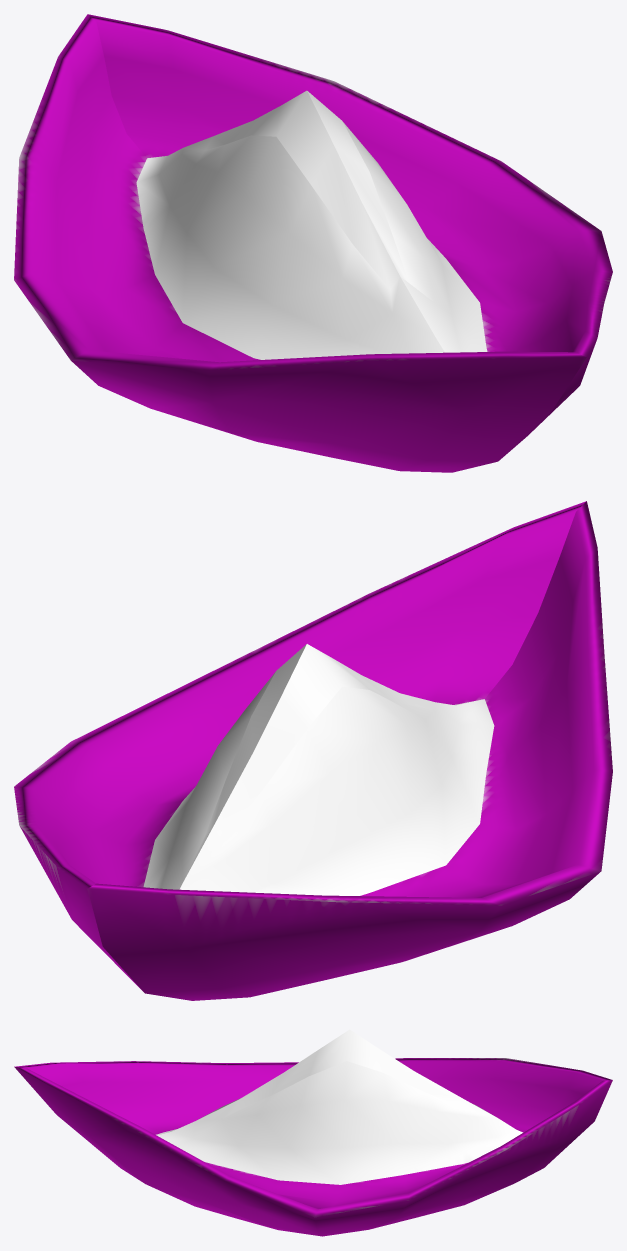
Rendered from PurpleBoat.fbx.
3 views of the same model, one above another, from view 1: azimuth 30°, elevation 25°; view 2: azimuth 150°, elevation 25°; view 3: azimuth 270°, elevation 25° (orthographic). The views are drawn at different scales.
Visible parts, largest first — view 1: polySurface1; view 2: polySurface1; view 3: polySurface1.
Part boxes in pixels (<box>): polySurface1: <box>14,14,612,472</box>; polySurface1: <box>14,501,612,1000</box>; polySurface1: <box>14,1029,612,1236</box>.
Bounding box in the file's own units: 111 × 59 × 181.
1 material, 1 textured.
